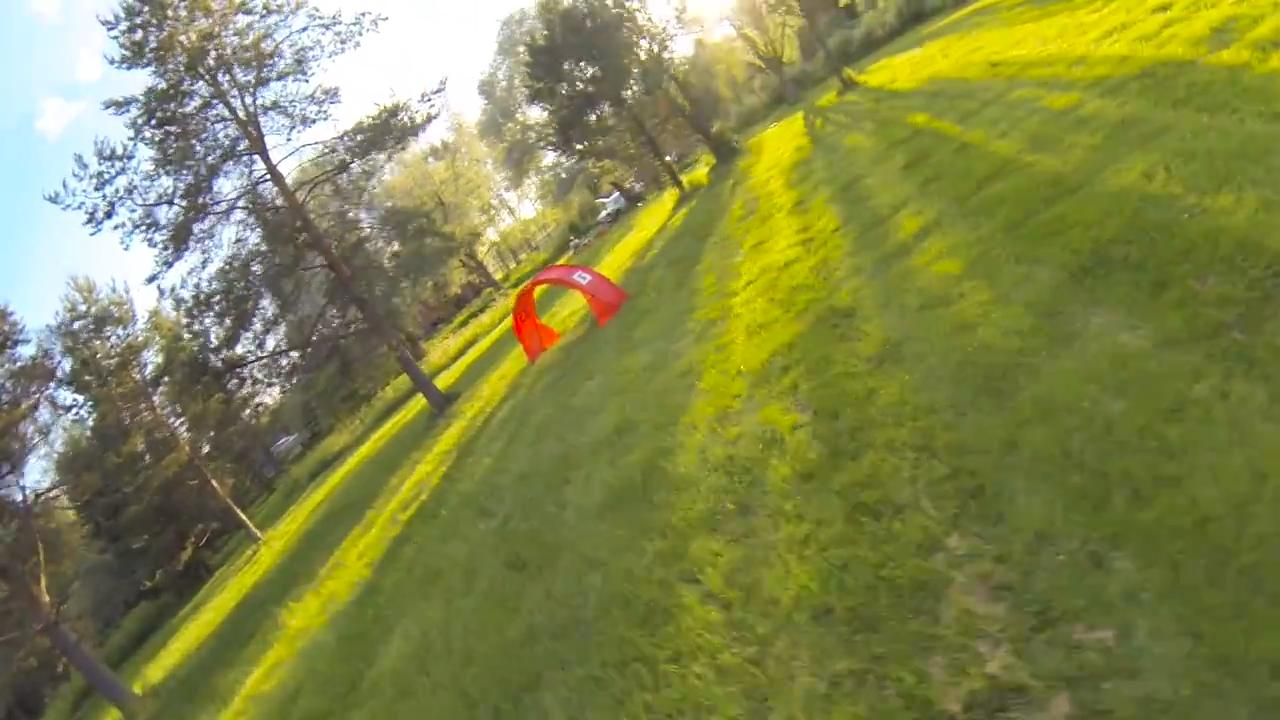gate: (509, 265, 627, 364)
